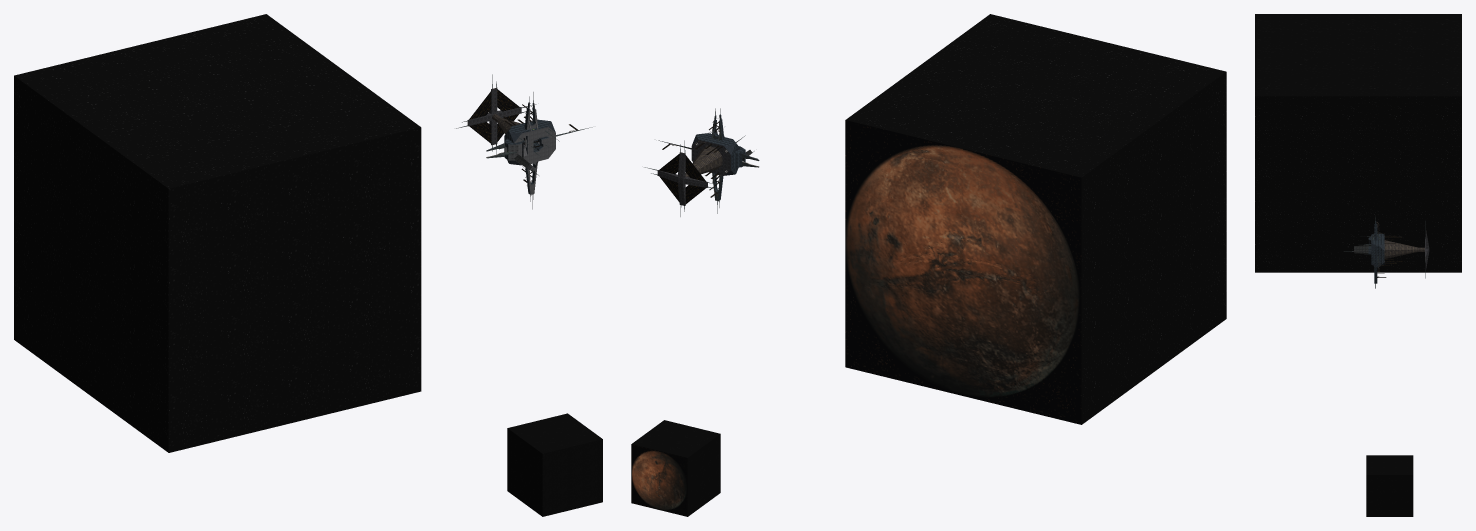
File: DM-Deimos.obj
3 renders of one model, left to right at view 1: azimuth 30°, elevation 25°; view 2: azimuth 150°, elevation 25°; view 3: azimuth 270°, elevation 25°, orthographic. The views are drawn at different scales.
Parts seen in each view (by area): view 1: genfluid_Sky_NghSky3, UTtech1_Floor_bmFloor2, XbpFX_inoxPip3, UTtech1_Wall_bmwall3d, UTtech1_Wall_bmpanels8; view 2: genfluid_Sky_NghSky3, XbpFX_inxmars3, XbpFX_inxmars1, XbpFX_inxmars4, XbpFX_inxmars2, UTtech1_Wall_bmpanels8, XbpFX_inoxPip3, UTtech1_Wall_bmwall3d; view 3: genfluid_Sky_NghSky3, UTtech1_Wall_bmwall3d, XbpFX_inxb6.
Part boxes in pixels (<box>): genfluid_Sky_NghSky3: <box>14,14,602,516</box>; UTtech1_Floor_bmFloor2: <box>514,103,555,209</box>; XbpFX_inoxPip3: <box>469,89,578,182</box>; UTtech1_Wall_bmwall3d: <box>504,102,551,194</box>; UTtech1_Wall_bmpanels8: <box>468,88,532,168</box>; genfluid_Sky_NghSky3: <box>631,14,1226,516</box>; XbpFX_inxmars3: <box>659,272,1081,516</box>; XbpFX_inxmars1: <box>631,149,1081,509</box>; XbpFX_inxmars4: <box>659,243,962,487</box>; XbpFX_inxmars2: <box>631,120,962,480</box>; UTtech1_Wall_bmpanels8: <box>657,140,730,205</box>; XbpFX_inoxPip3: <box>659,121,722,204</box>; UTtech1_Wall_bmwall3d: <box>696,114,745,200</box>; genfluid_Sky_NghSky3: <box>1255,14,1461,516</box>; UTtech1_Wall_bmwall3d: <box>1368,221,1384,283</box>; XbpFX_inxb6: <box>1384,230,1426,260</box>.
Size of the model in its own units: 665 by 612 by 343.
